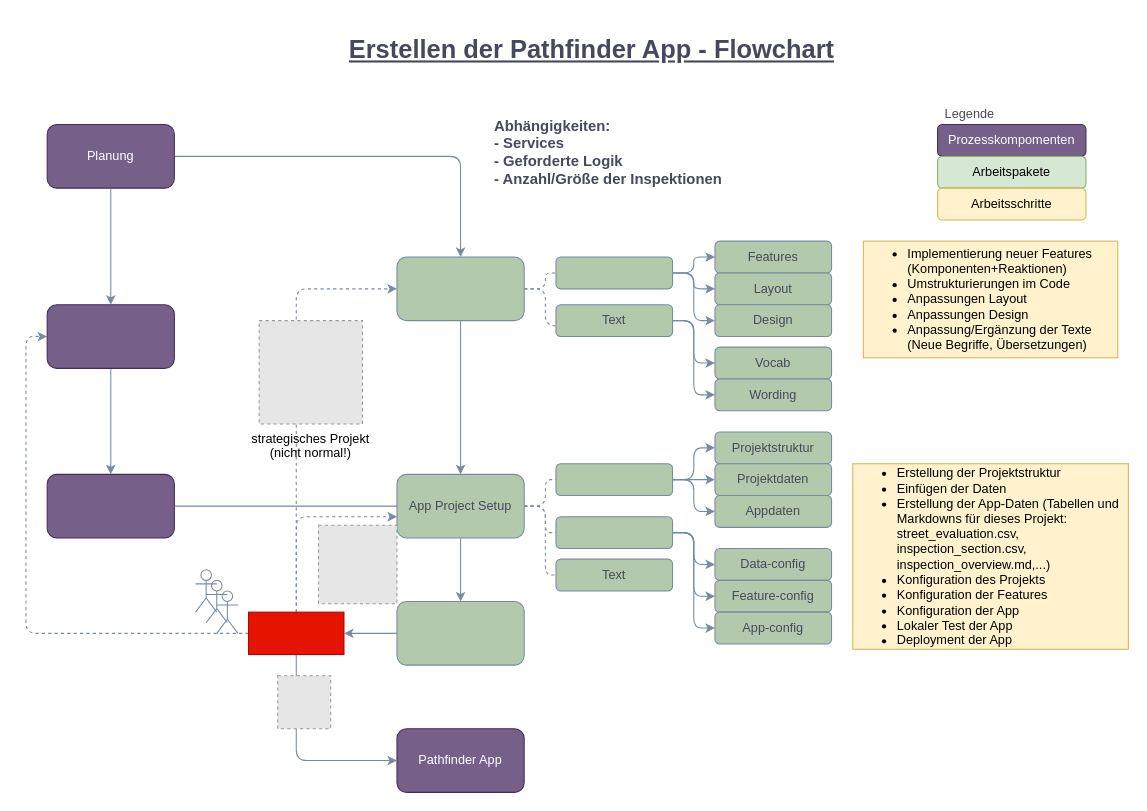
The diagram is 1147 pixels wide and 811 high, and some of its shapes have lost their labels. Grey dashed boxes stand in for pictures. The centre of each missing label's shape, as x and y in pixels:
App Development: the point at 460,288
App Test Deployment: the point at 460,632
Code: the point at 614,272
Config: the point at 614,532
Data: the point at 614,479
Datenauswertung: the point at 110,336
Export: the point at 110,505
Review: the point at 296,633
